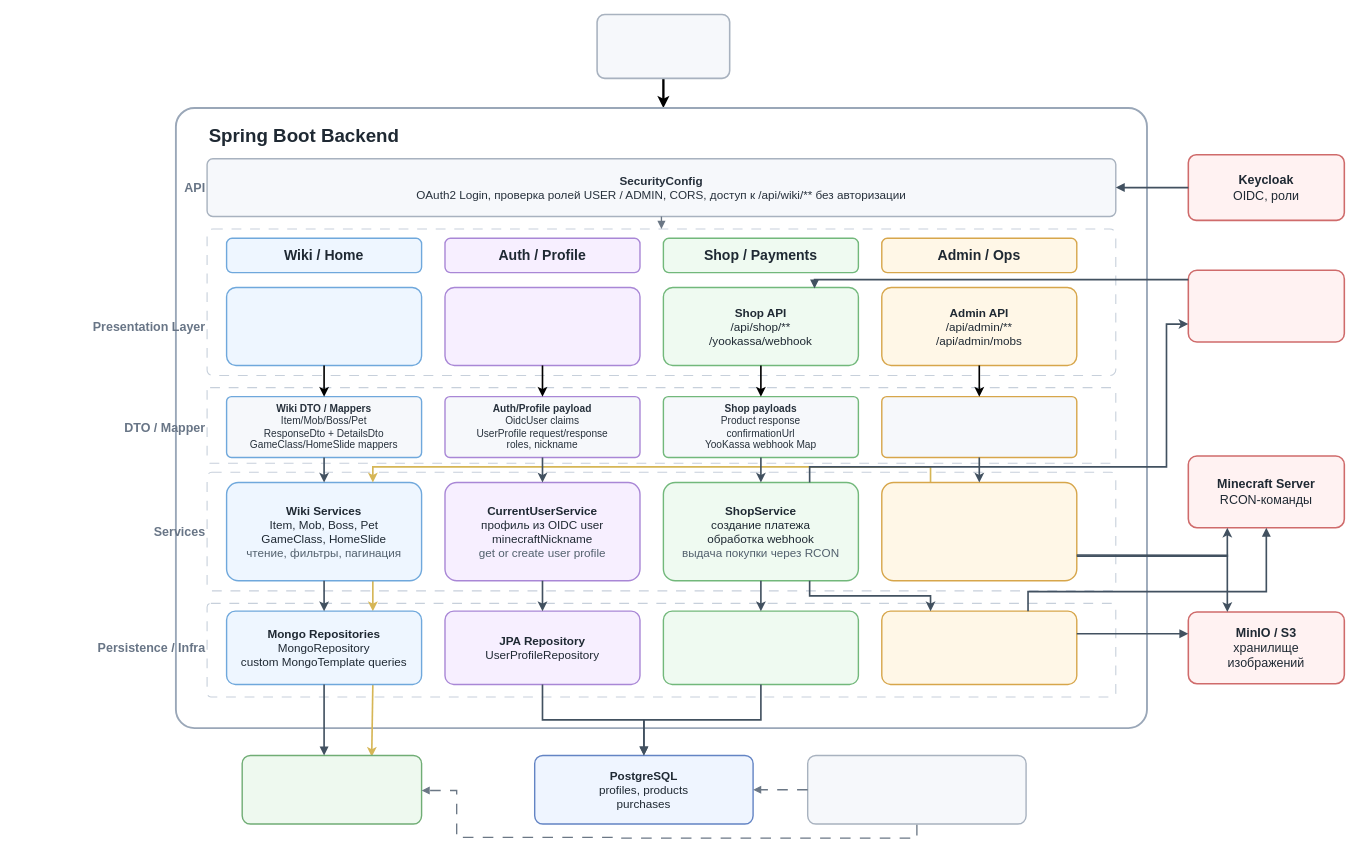
The diagram is 1358 pixels wide and 858 high, and some of its shapes have lost their labels. The centre of each missing label's shape, as x and y in pixels:
"Admin DTO / Mappers MobCreateDto / MobUpdateDto MobMapper upload file params" goes at [979,427].
"Admin Services MobService create/update S3Service upload MinecraftRconService" goes at [979,531].
"Auth + Profile API /api/auth/** /api/profile/**" goes at [542,326].
"Frontend HTTP METHODS" goes at [663,46].
"Infra Clients S3 client RCON client" goes at [979,647].
"JPA Repositories ProductRepository PurchaseRepository" goes at [760,647].
"Migrations / seed Mongock для MongoDB Flyway для PostgreSQL" goes at [916,789].
"MongoDB wiki-контент items, mobs, slides" goes at [331,789].
"Wiki API /api/wiki/items /mobs /bosses /pets /classes" goes at [323,326].
"YooKassa создание платежа webhook" goes at [1266,305].
